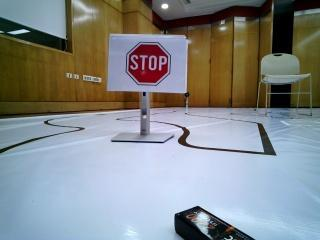stop: (111, 34, 183, 91)
